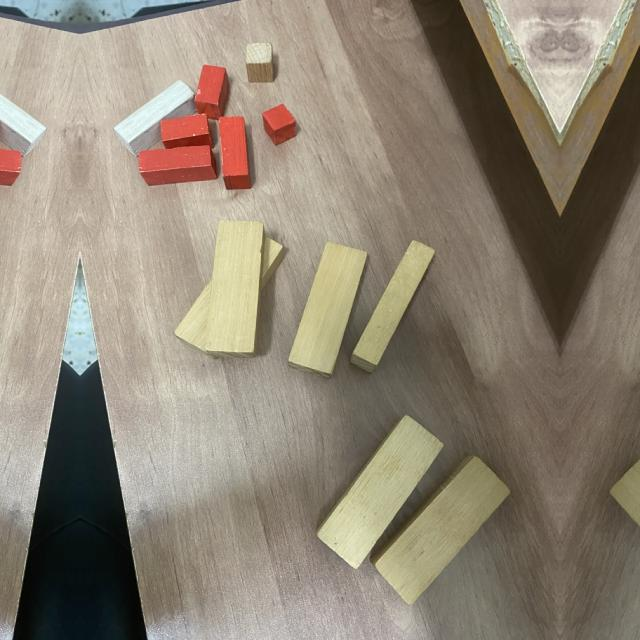block: (113, 79, 197, 158), (0, 94, 47, 158)
cube: (246, 42, 273, 82)
jenga: (369, 454, 511, 606), (315, 414, 445, 572), (174, 221, 284, 360), (350, 241, 437, 374), (287, 241, 368, 380), (206, 221, 265, 358)
red block: (138, 146, 217, 186), (218, 116, 252, 190), (159, 113, 214, 150), (194, 65, 229, 120), (0, 149, 22, 186)
red cube: (261, 103, 297, 145)
